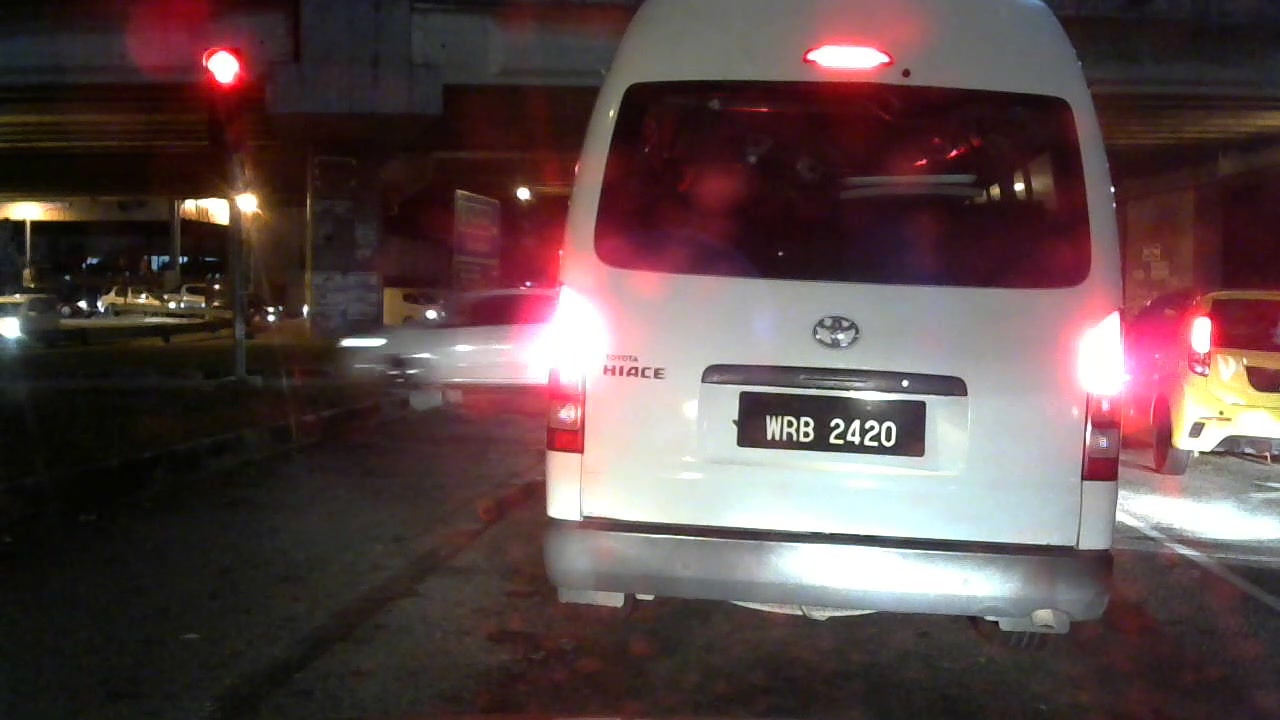Car: (530, 2, 1130, 634), (312, 267, 580, 413), (1124, 279, 1280, 500), (89, 277, 183, 315)
